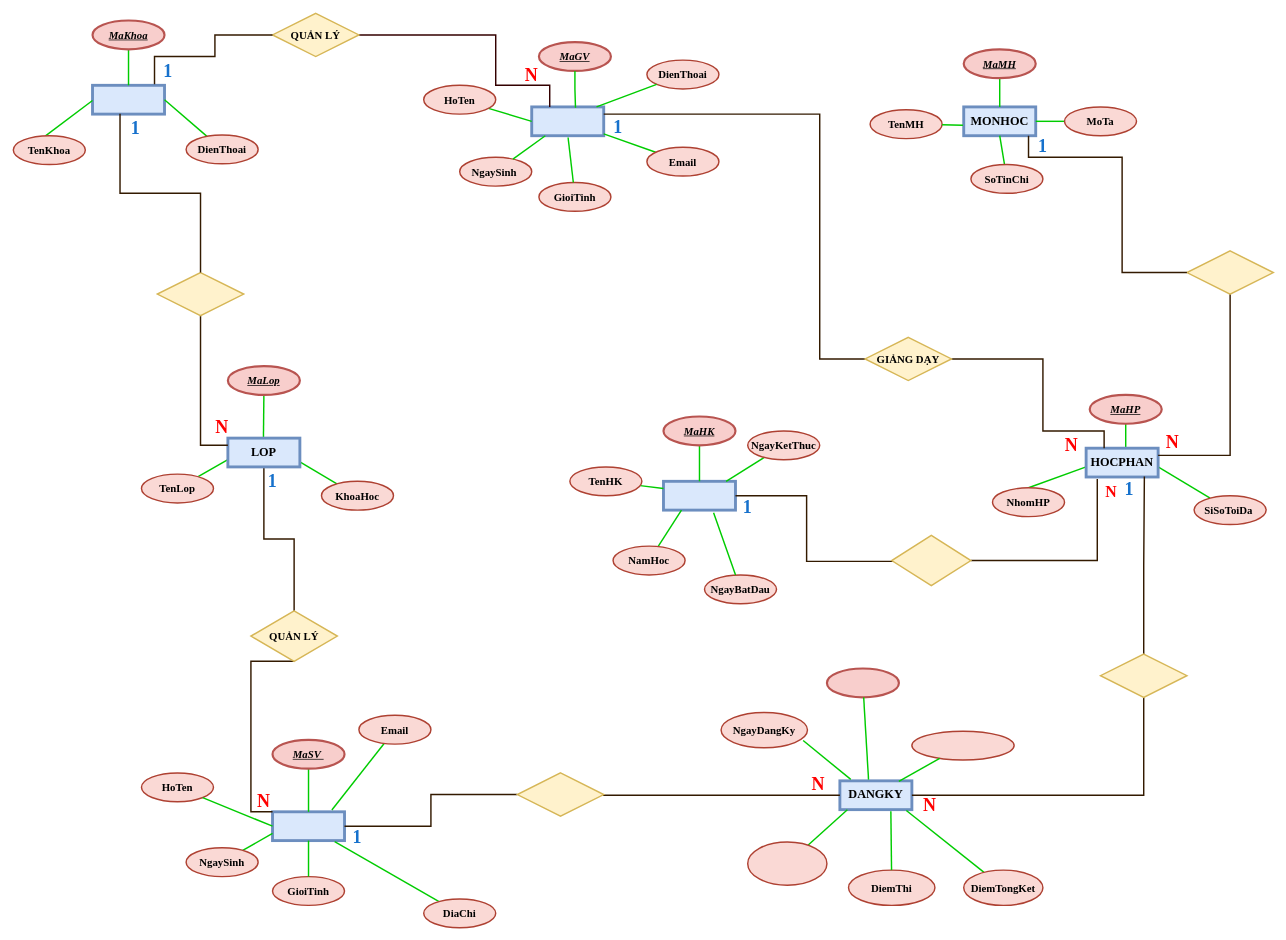
Some shapes in this 1286 by 940 pixel diagram are drawn without their labels. The shapes that lost their labels are listed below. From the top down, each one's centre as x and y in pixels, then its label:
At pixel 128 99: "KHOA".
At pixel 567 121: "GIANGVIEN".
At pixel 1230 272: "MỞ".
At pixel 200 293: "THUỘC".
At pixel 699 495: "HOCKY".
At pixel 931 560: "TỔ CHỨC".
At pixel 862 682: "MaDK".
At pixel 1143 675: "CÓ".
At pixel 962 745: "KetQua".
At pixel 560 794: "THỰC HIỆN".
At pixel 308 826: "SINHVIEN".
At pixel 787 863: "DiemQuaTrinh".
